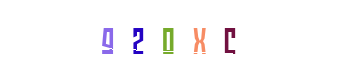0: (137, 0, 217, 80)
2: (127, 0, 207, 80)
C: (159, 0, 239, 80)
G: (71, 0, 151, 80)
X: (145, 0, 225, 80)
